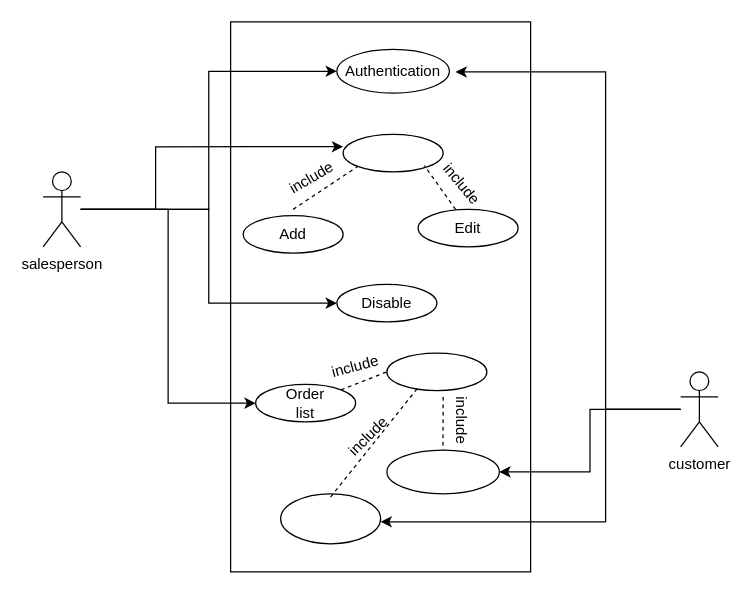
The diagram is 751 pixels wide and 594 high, and some of its shapes have lost their labels. Each missing label, with the centre of its shape:
"Maintain" goes at point (392, 152).
"Purchase" goes at point (436, 371).
"Purchase completion" goes at point (330, 518).
"ُSupermarkets list" goes at point (442, 471).
